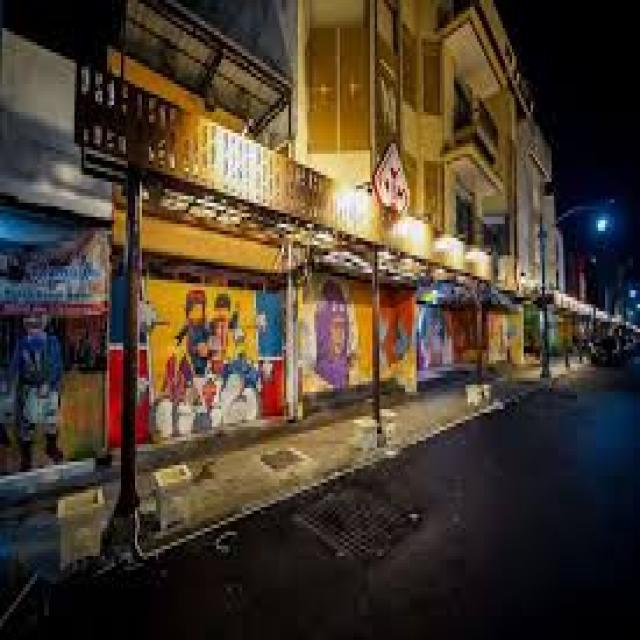-: (3, 206, 107, 472), (140, 282, 286, 441), (303, 266, 367, 398), (416, 302, 474, 371), (378, 284, 410, 390)
